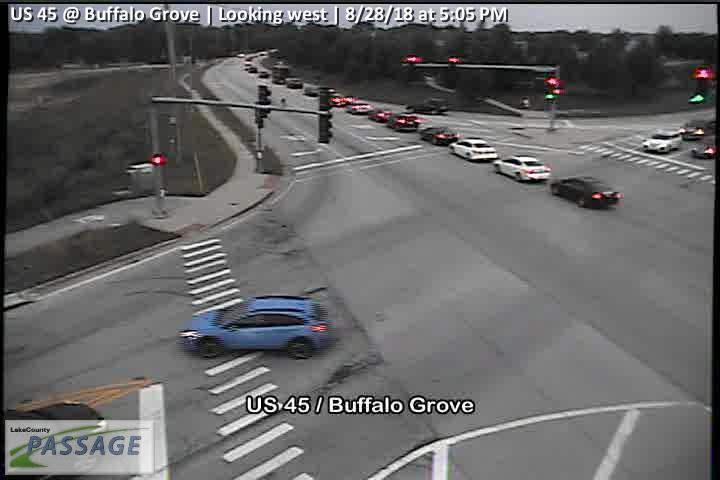SUV: (413, 96, 448, 117), (390, 112, 420, 130), (258, 68, 269, 78)
Sedan: (178, 293, 334, 363), (1, 398, 118, 478), (550, 173, 623, 210), (495, 155, 552, 183), (448, 135, 499, 163), (641, 130, 683, 154), (421, 125, 460, 143), (683, 118, 713, 141), (692, 134, 715, 159), (369, 108, 393, 122), (349, 101, 374, 114), (329, 91, 349, 106), (285, 78, 303, 89), (305, 85, 318, 96), (247, 66, 256, 74)
Truck: (270, 65, 288, 83), (243, 61, 254, 70)
